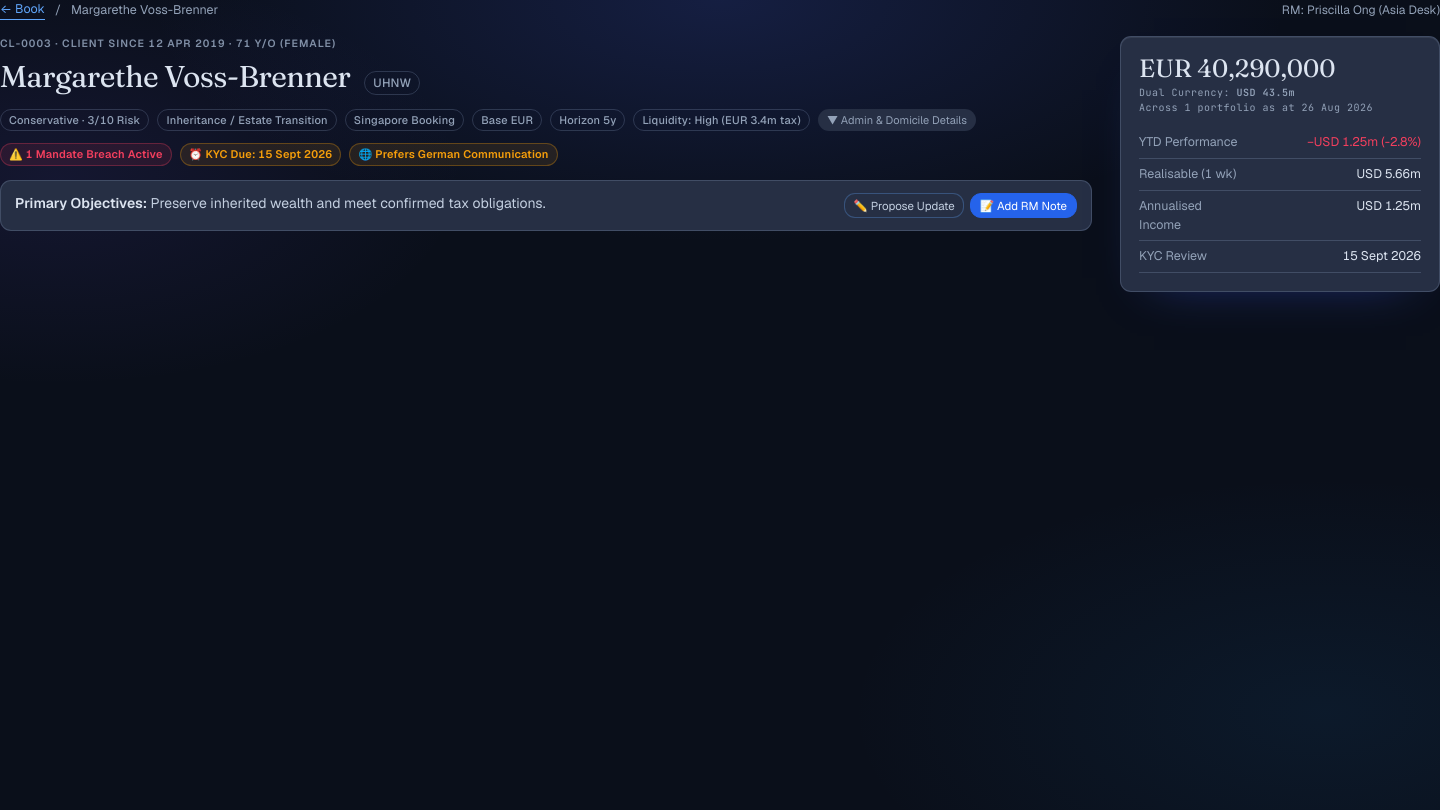
Client Explanation Module Components › ClientHeader renders hero info, dual currency AUM, and dynamic alert chips
expect the heading "Margarethe Voss-Brenner" is shown: met, box top-left (0, 54), bottom-right (350, 98)
expect the text "CL-0003 · Client since 12 Apr 2019 · 71 y/o (Female)" is shown: met, box top-left (0, 36), bottom-right (336, 50)
Note: Expand administrative details drawer
Click the button "▼ Admin & Domicile Details" at (897, 120), box top-left (818, 108), bottom-right (976, 131)
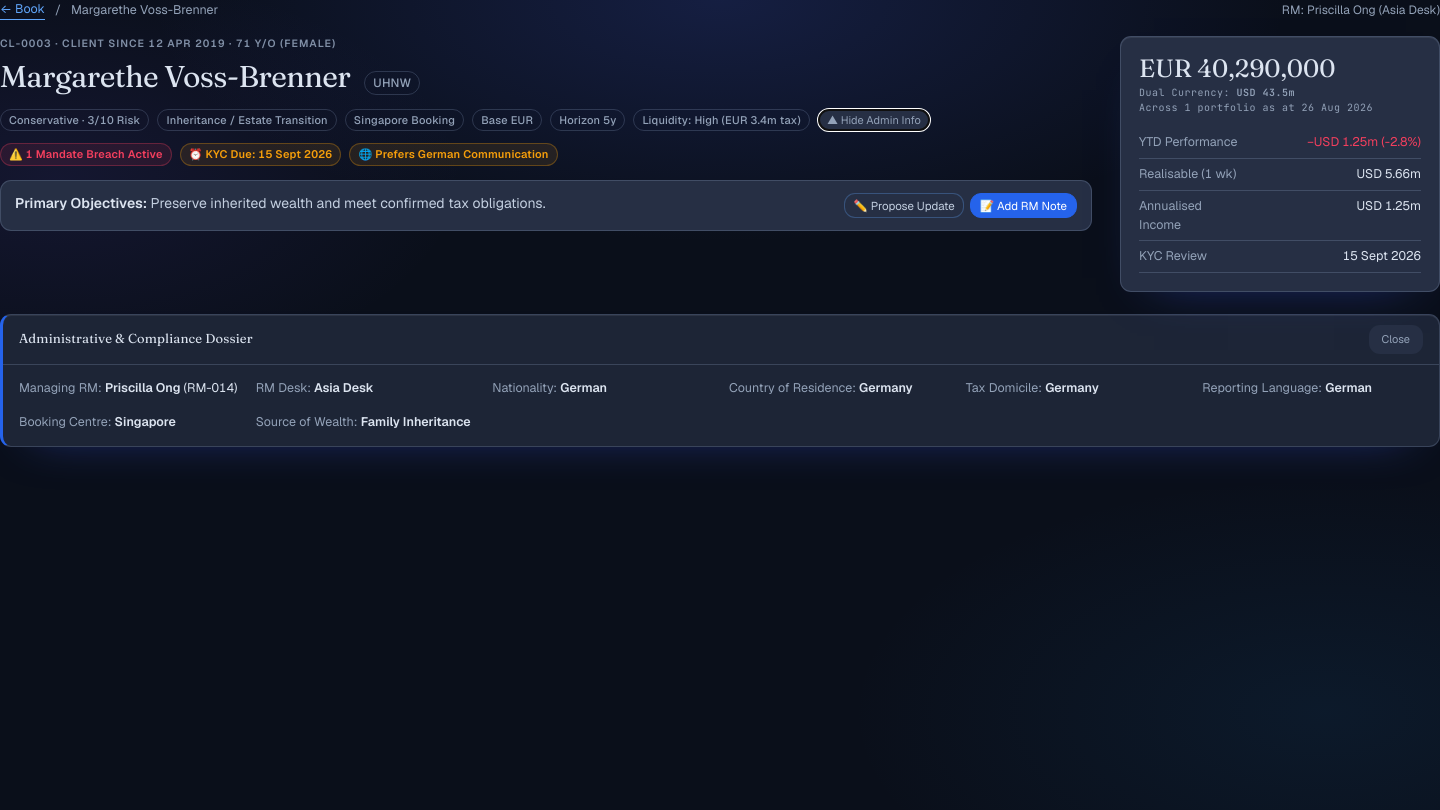
expect the heading "Administrative & Compliance Dossier" is shown: met, box top-left (19, 329), bottom-right (253, 348)
expect the text "Managing RM: Priscilla Ong (RM-014)" is shown: met, box top-left (19, 378), bottom-right (240, 397)
expect the text "Family Inheritance" is shown: met, box top-left (361, 413), bottom-right (471, 430)
Note: Open Note Modal
Click the button "📝 Add RM Note" at (1023, 205), box top-left (970, 192), bottom-right (1077, 218)
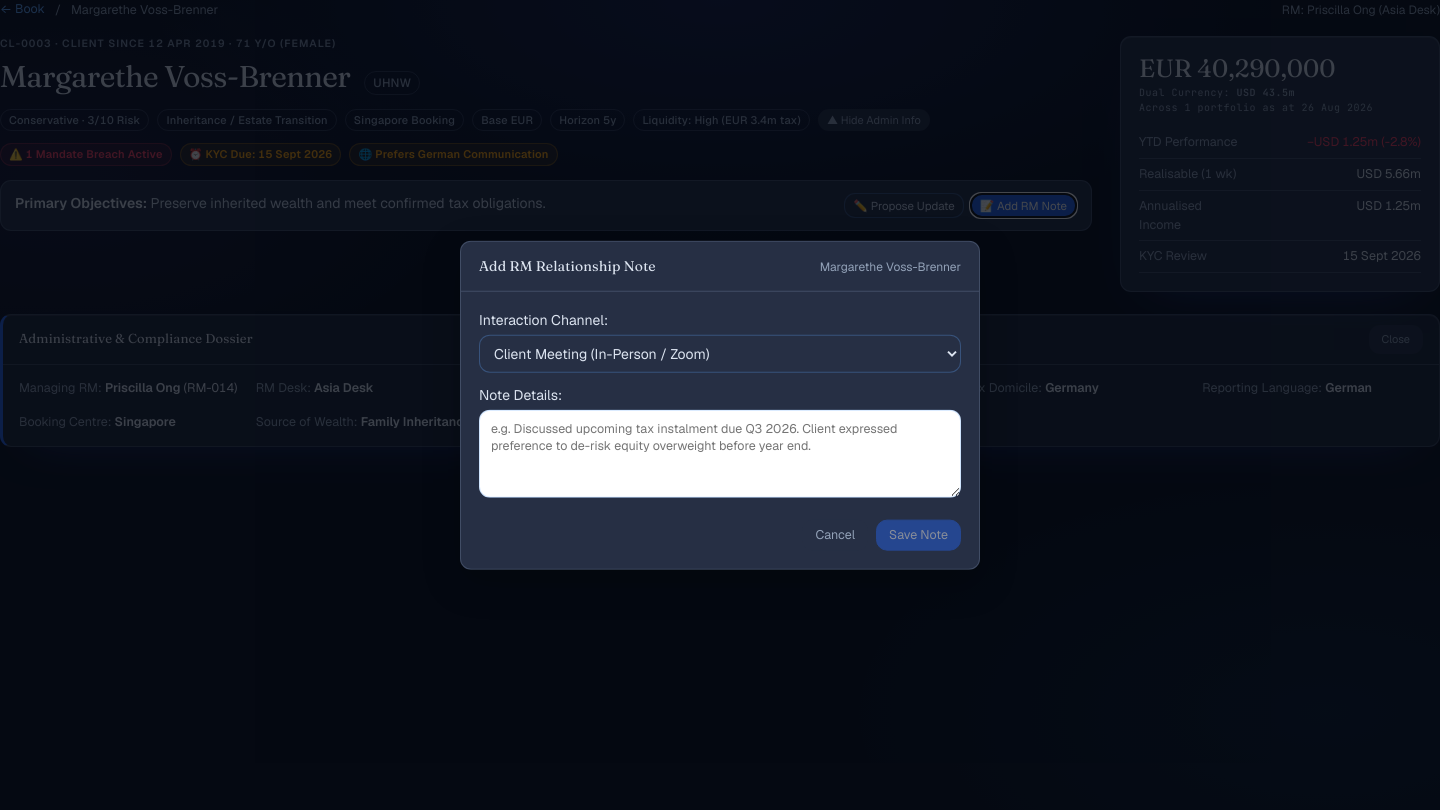
expect the heading "Add RM Relationship Note" is shown: met, box top-left (479, 256), bottom-right (656, 277)
